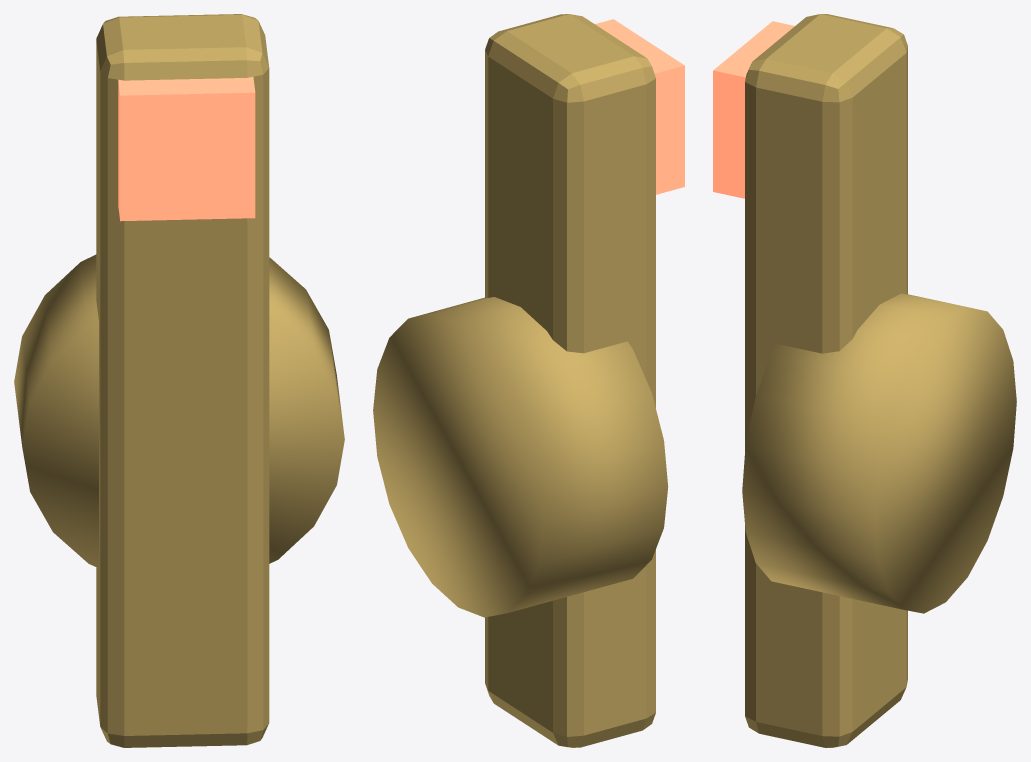
File: dial.glb
3 views of the same model, side by side, from view 1: azimuth 30°, elevation 25°; view 2: azimuth 150°, elevation 25°; view 3: azimuth 270°, elevation 25° (orthographic). The views are drawn at different scales.
Parts seen in each view (by area): view 1: ipm_dial_bar, ipm_dial_hub, ipm_dial_index; view 2: ipm_dial_bar, ipm_dial_hub, ipm_dial_index; view 3: ipm_dial_bar, ipm_dial_hub, ipm_dial_index.
Part boxes in pixels (box(x1,y1,x2,y2)): ipm_dial_bar: box(96, 14, 269, 747); ipm_dial_hub: box(14, 254, 344, 567); ipm_dial_index: box(118, 77, 255, 221); ipm_dial_bar: box(485, 14, 655, 747); ipm_dial_hub: box(373, 297, 668, 617); ipm_dial_index: box(595, 19, 684, 194); ipm_dial_bar: box(745, 14, 907, 747); ipm_dial_hub: box(742, 293, 1016, 613); ipm_dial_index: box(713, 21, 794, 198).
Bounding box in the file's own units: 0.0233 × 0.05 × 0.0204.
